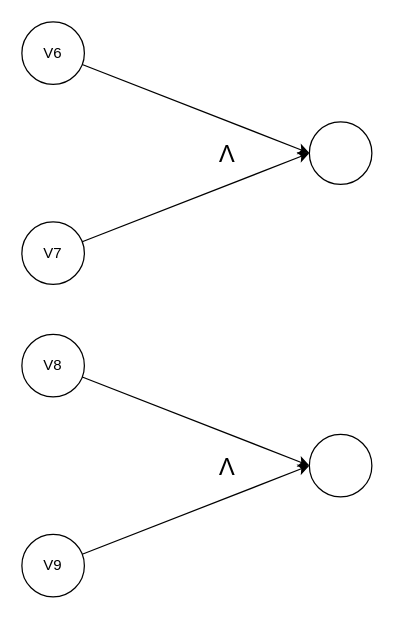
Some shapes in this 394 by 619 pixel diagram are drawn without their labels. The shapes that lost their labels are listed below. From the top down, each one's box as (x1, y1, x2, y2) in pixels, then its label:
(308, 121, 372, 184): I15
(308, 433, 372, 497): I16
